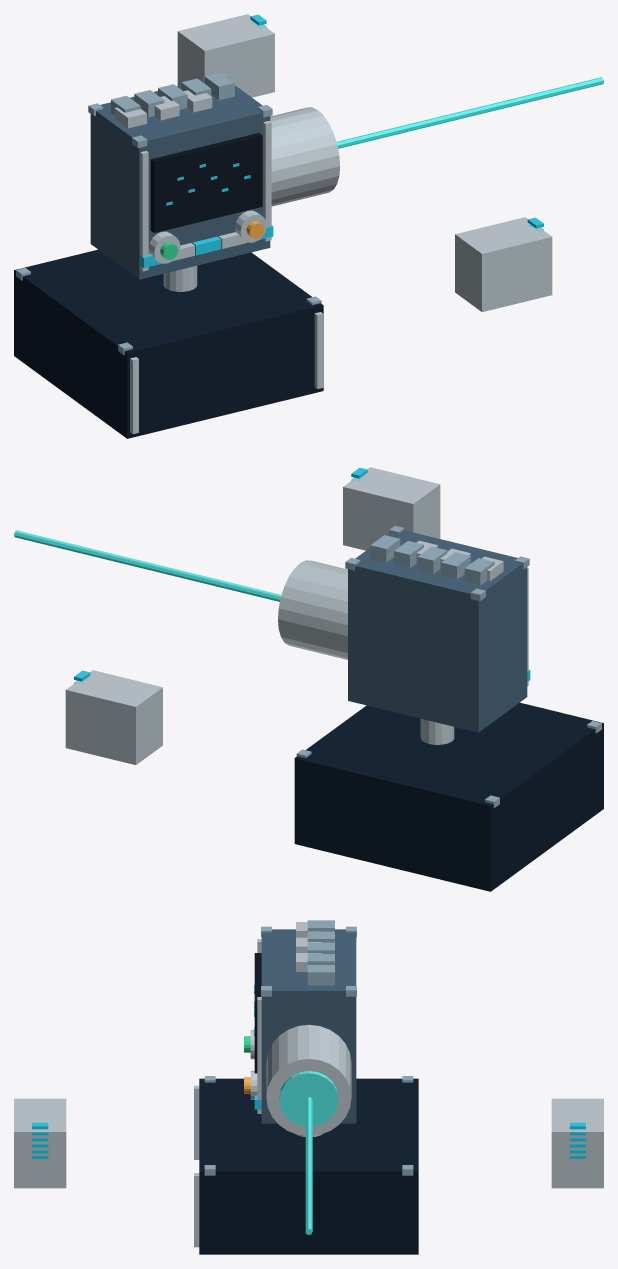
File: 28_L74_WaferStageLaserInterferometer.fbx
The picture shows the model from 3 angles, top to bottom: view 1: azimuth 30°, elevation 25°; view 2: azimuth 150°, elevation 25°; view 3: azimuth 270°, elevation 25°; orthographic projection. The views are drawn at different scales.
Parts seen in each view (by area): view 1: WaferStageLaserInterferometer, WaferStageLaserInterferometer_Part_0007, WaferStageLaserInterferometer_Part_0014, WaferStageLaserInterferometer_Part_0043, WaferStageLaserInterferometer_Part_0012, WaferStageLaserInterferometer_Part_0013, WaferStageLaserInterferometer_Part_0041, WaferStageLaserInterferometer_Part_0035, WaferStageLaserInterferometer_Part_0024, WaferStageLaserInterferometer_Part_0026; view 2: WaferStageLaserInterferometer, WaferStageLaserInterferometer_Part_0007, WaferStageLaserInterferometer_Part_0043, WaferStageLaserInterferometer_Part_0041, WaferStageLaserInterferometer_Part_0035, WaferStageLaserInterferometer_Part_0032, WaferStageLaserInterferometer_Part_0031, WaferStageLaserInterferometer_Part_0033, WaferStageLaserInterferometer_Part_0034; view 3: WaferStageLaserInterferometer, WaferStageLaserInterferometer_Part_0007, WaferStageLaserInterferometer_Part_0043, WaferStageLaserInterferometer_Part_0044, WaferStageLaserInterferometer_Part_0014, WaferStageLaserInterferometer_Part_0035, WaferStageLaserInterferometer_Part_0013.
Part boxes in pixels (<box>): WaferStageLaserInterferometer: <box>14,14,603,438</box>; WaferStageLaserInterferometer_Part_0007: <box>90,79,270,279</box>; WaferStageLaserInterferometer_Part_0014: <box>150,133,262,232</box>; WaferStageLaserInterferometer_Part_0043: <box>270,107,339,206</box>; WaferStageLaserInterferometer_Part_0012: <box>140,151,148,271</box>; WaferStageLaserInterferometer_Part_0013: <box>263,121,271,241</box>; WaferStageLaserInterferometer_Part_0041: <box>163,265,197,291</box>; WaferStageLaserInterferometer_Part_0035: <box>205,72,234,100</box>; WaferStageLaserInterferometer_Part_0024: <box>148,231,180,263</box>; WaferStageLaserInterferometer_Part_0026: <box>235,210,266,242</box>; WaferStageLaserInterferometer: <box>14,467,603,891</box>; WaferStageLaserInterferometer_Part_0007: <box>348,530,527,732</box>; WaferStageLaserInterferometer_Part_0043: <box>278,560,347,659</box>; WaferStageLaserInterferometer_Part_0041: <box>420,718,454,744</box>; WaferStageLaserInterferometer_Part_0035: <box>370,535,400,562</box>; WaferStageLaserInterferometer_Part_0032: <box>441,552,470,579</box>; WaferStageLaserInterferometer_Part_0031: <box>464,558,494,585</box>; WaferStageLaserInterferometer_Part_0033: <box>417,546,447,573</box>; WaferStageLaserInterferometer_Part_0034: <box>394,541,423,568</box>; WaferStageLaserInterferometer: <box>14,1076,603,1254</box>; WaferStageLaserInterferometer_Part_0007: <box>261,929,356,1123</box>; WaferStageLaserInterferometer_Part_0043: <box>266,1024,351,1135</box>; WaferStageLaserInterferometer_Part_0044: <box>279,1071,338,1126</box>; WaferStageLaserInterferometer_Part_0014: <box>254,953,261,1073</box>; WaferStageLaserInterferometer_Part_0035: <box>307,965,334,985</box>; WaferStageLaserInterferometer_Part_0013: <box>257,997,261,1113</box>.
Bounding box in the file's own units: 182 × 89.74 × 180.
